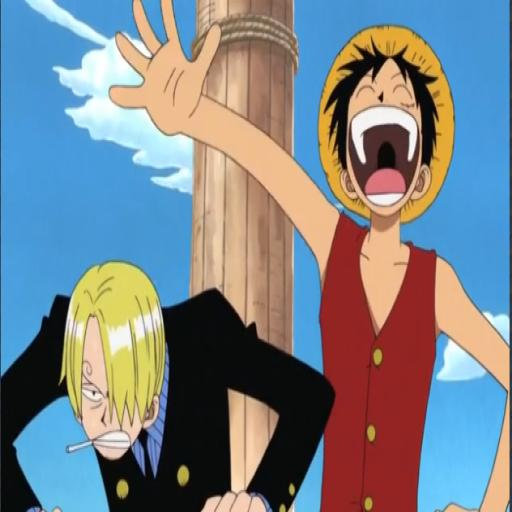Luffy: (251, 0, 512, 512)
sanji: (0, 250, 339, 512)
